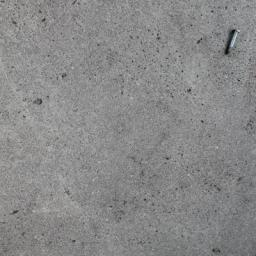FOD: (225, 27, 242, 58)
